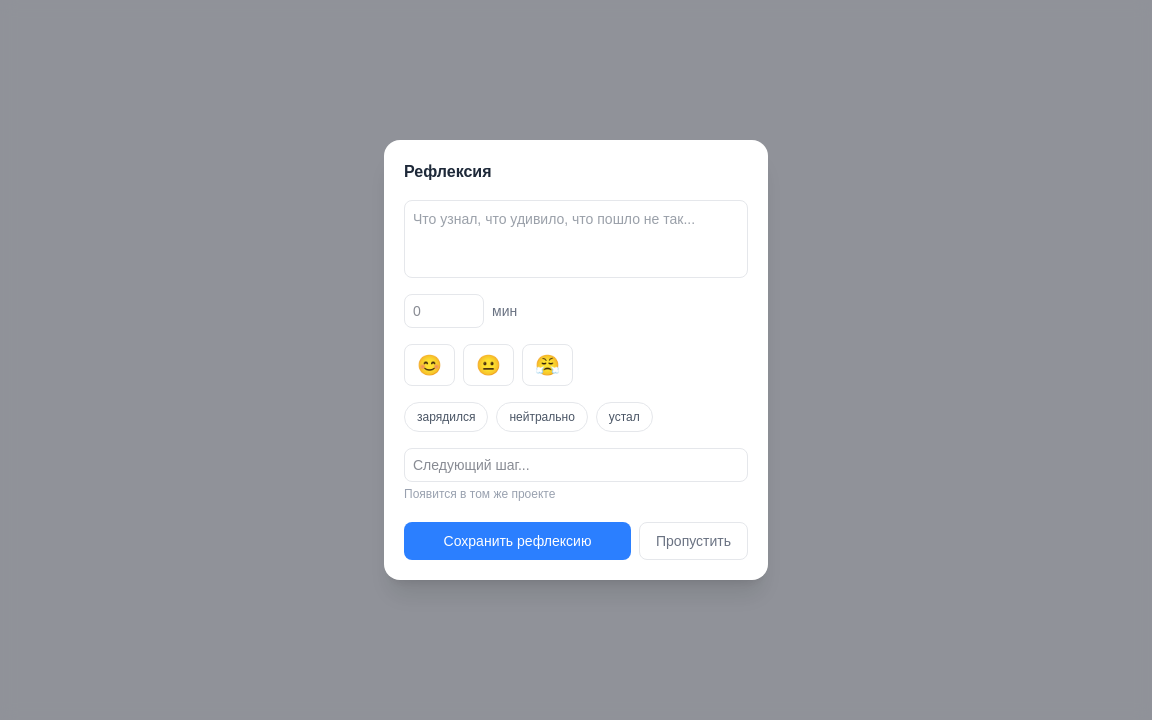
Test case: ReflectionModal › shows error and keeps modal open when save returns non-ok
Click the button "Сохранить рефлексию" at (518, 541), box [404,522,631,560]
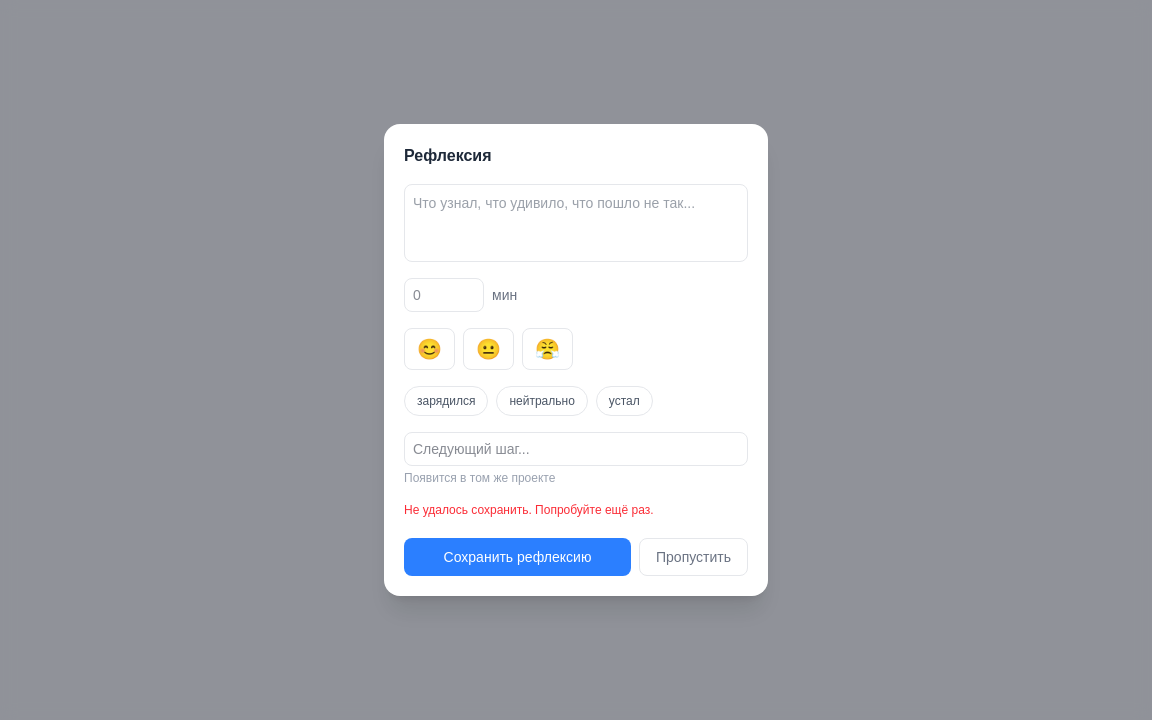
Check: the text "Не удалось сохранить. Попробуйте ещё раз." is shown, box [404,503,654,517]
